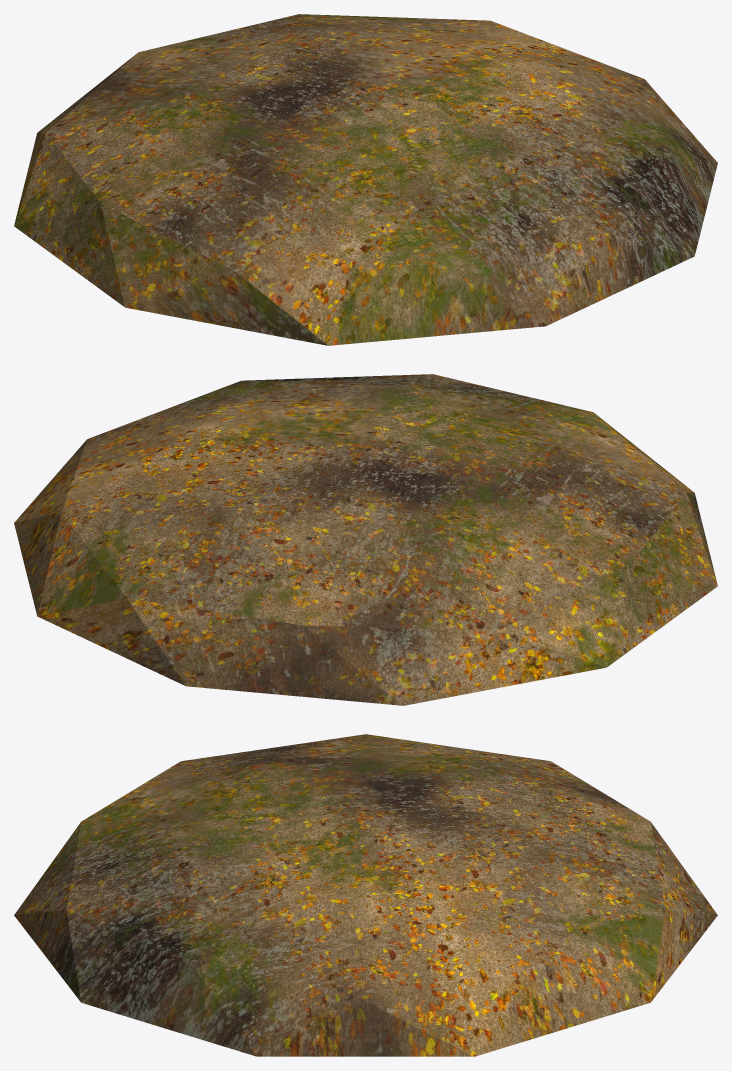
The model's file is terrain2.glb.
3 renders of one model, top to bottom at view 1: azimuth 30°, elevation 25°; view 2: azimuth 150°, elevation 25°; view 3: azimuth 270°, elevation 25°, orthographic. The views are drawn at different scales.
Parts seen in each view (by area): view 1: Icosphere; view 2: Icosphere; view 3: Icosphere.
Boxes of the visible parts, x1=… form: Icosphere: x1=14, y1=14, x2=717, y2=345; Icosphere: x1=14, y1=374, x2=717, y2=705; Icosphere: x1=14, y1=734, x2=717, y2=1056.
Size of the model in its own units: 13.18 by 2.26 by 13.86.
Materials: 1 (1 with a texture image).
